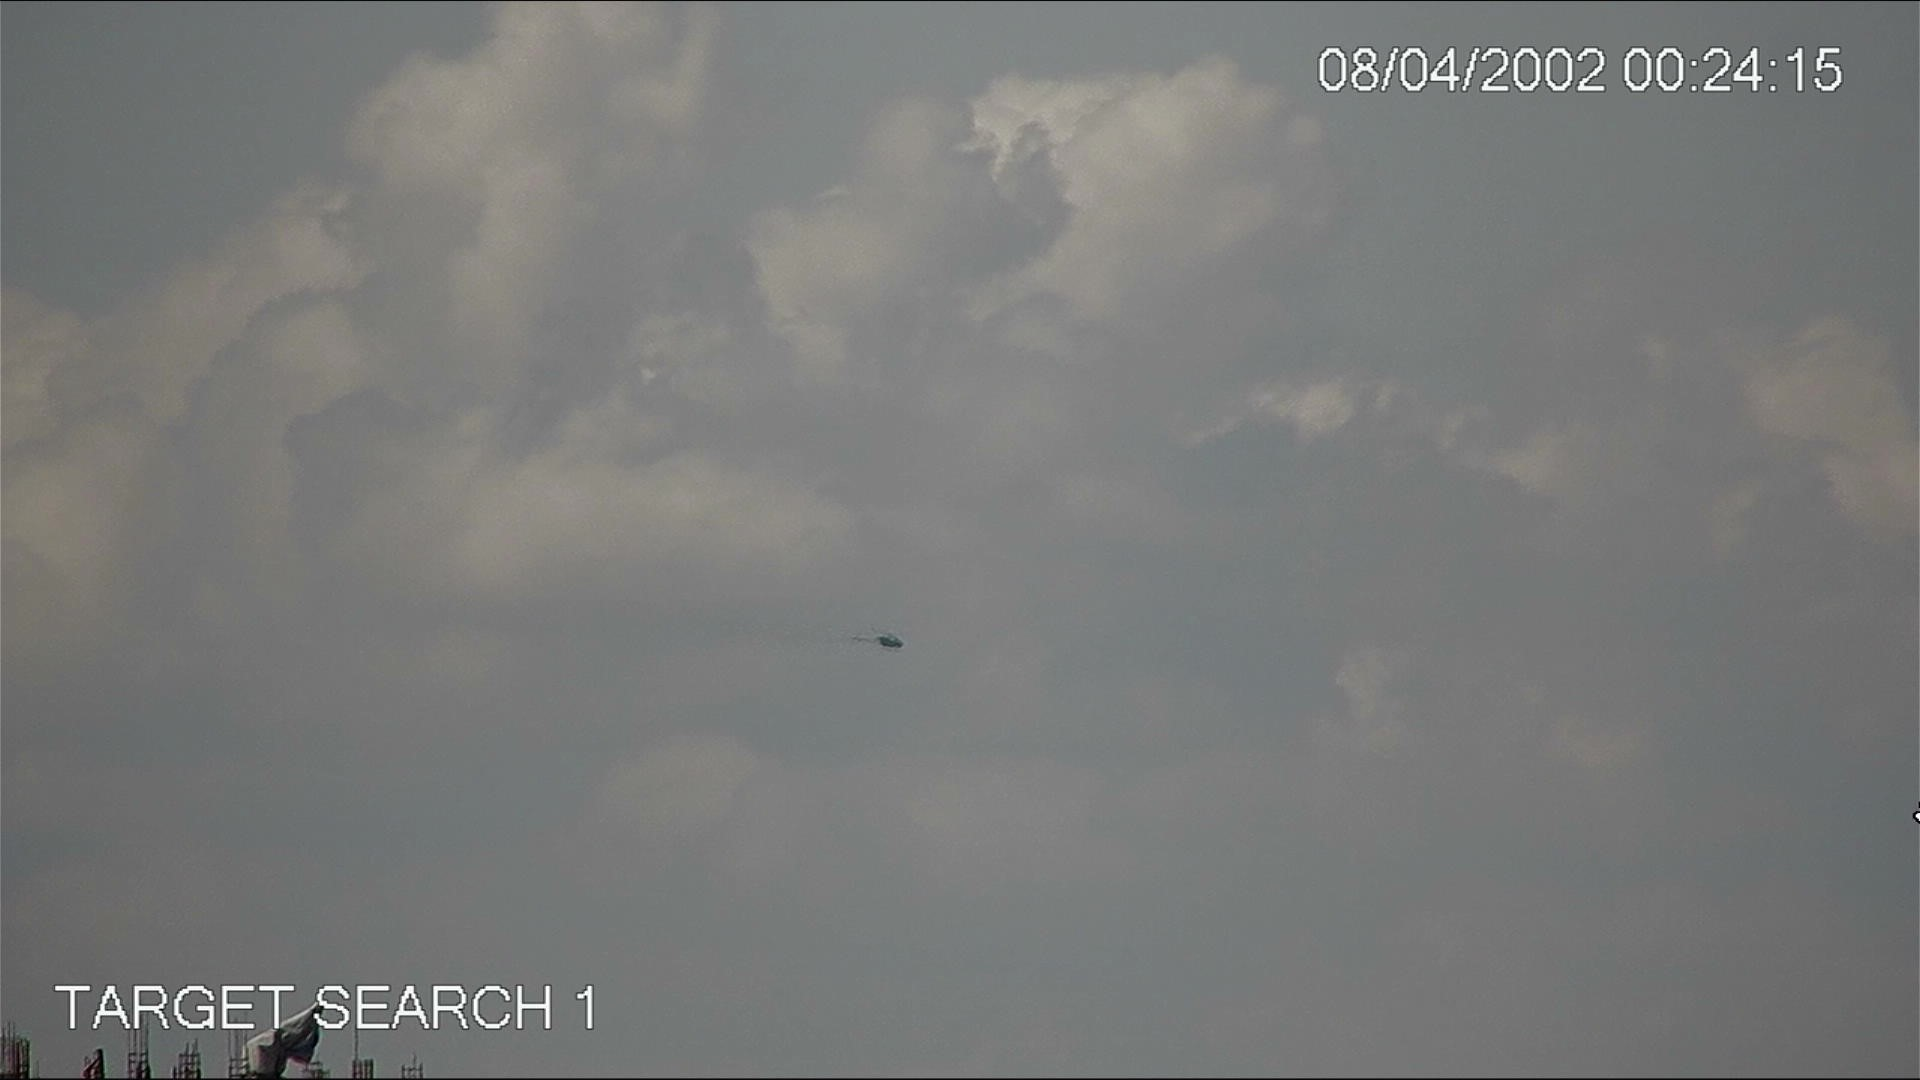SU_30: (848, 624, 909, 653)
